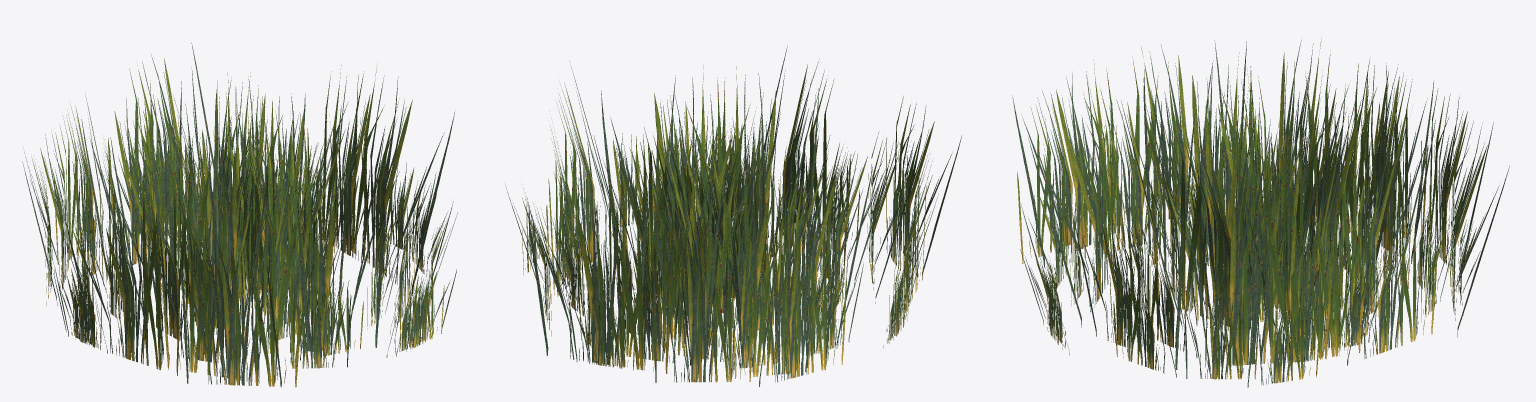
File: Grass.fbx
3 renders of one model, left to right at view 1: azimuth 30°, elevation 25°; view 2: azimuth 150°, elevation 25°; view 3: azimuth 270°, elevation 25°, orthographic. The views are drawn at different scales.
Visible parts, largest first — view 1: Grass_B_Low_Dense.1689; view 2: Grass_B_Low_Dense.1689; view 3: Grass_B_Low_Dense.1689.
Part boxes in pixels (x1,y1,x2,y2): Grass_B_Low_Dense.1689: (22,43,457,387); Grass_B_Low_Dense.1689: (505,46,961,386); Grass_B_Low_Dense.1689: (1012,39,1509,387).
Bounding box in the file's own units: 228 × 111 × 236.
1 material, 1 textured.
